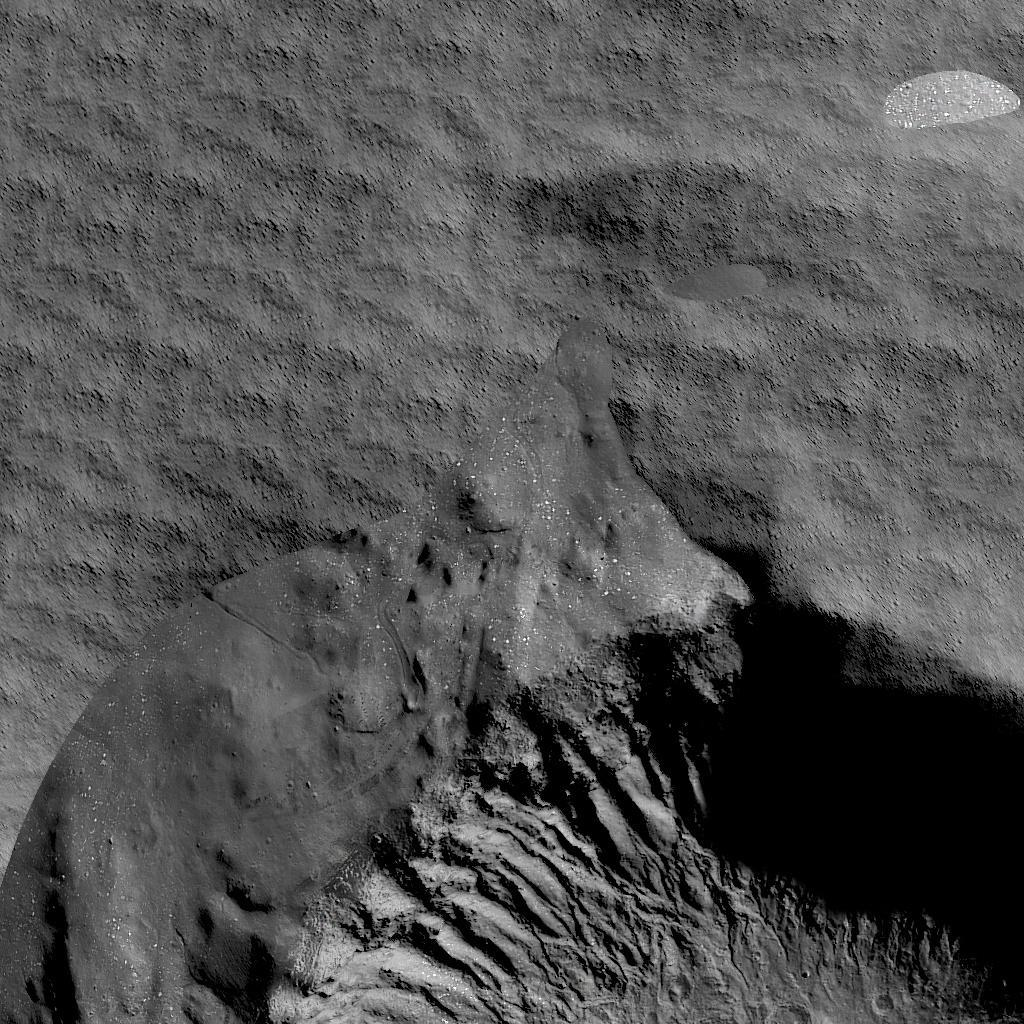Crater: (0, 510, 1024, 1024)
Plan surface: (0, 0, 1024, 498)
